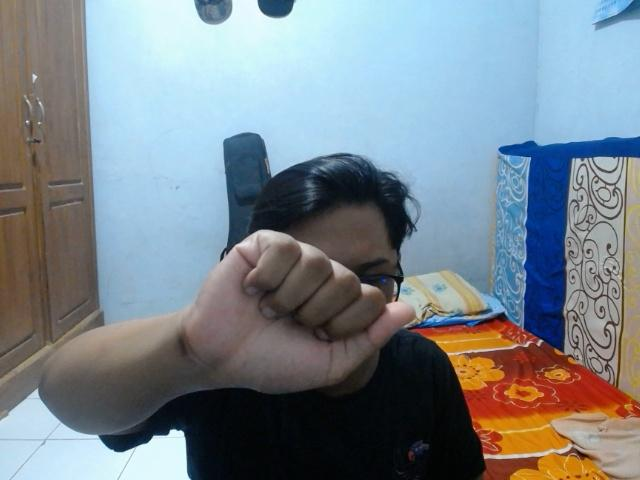Grab: (177, 222, 418, 399)
